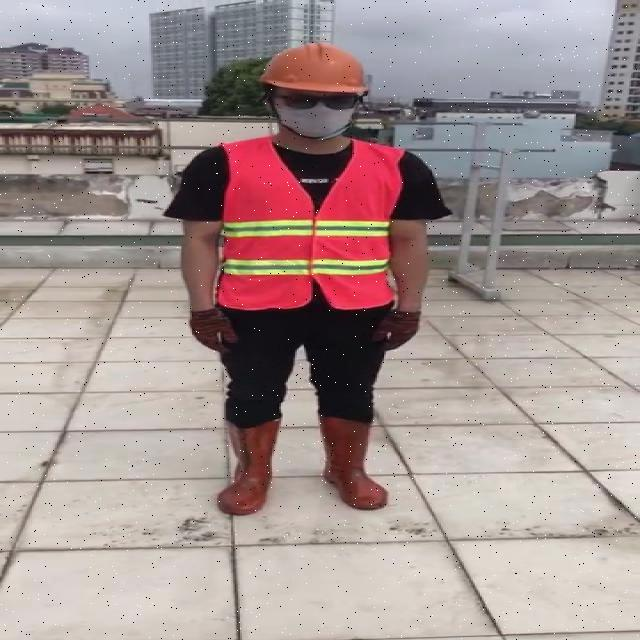Hard_hat: (256, 37, 378, 103)
Person: (160, 42, 454, 547)
Vest: (215, 136, 396, 312)
